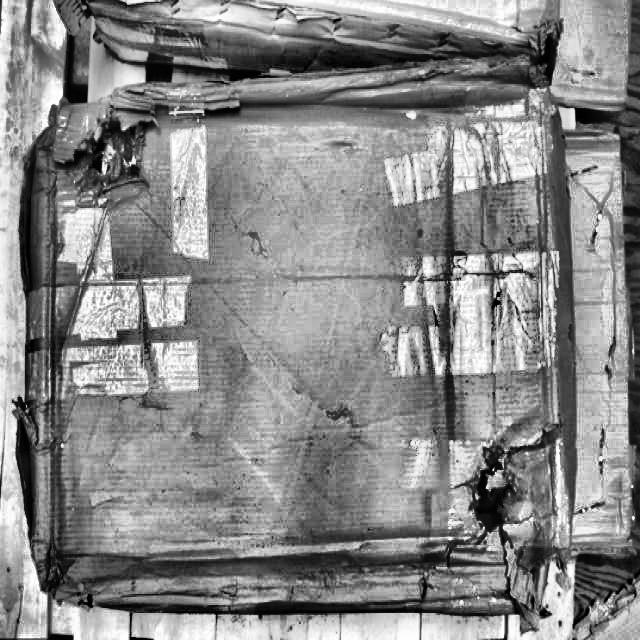box: (12, 43, 582, 623)
hole: (464, 438, 546, 568), (69, 115, 163, 202)
